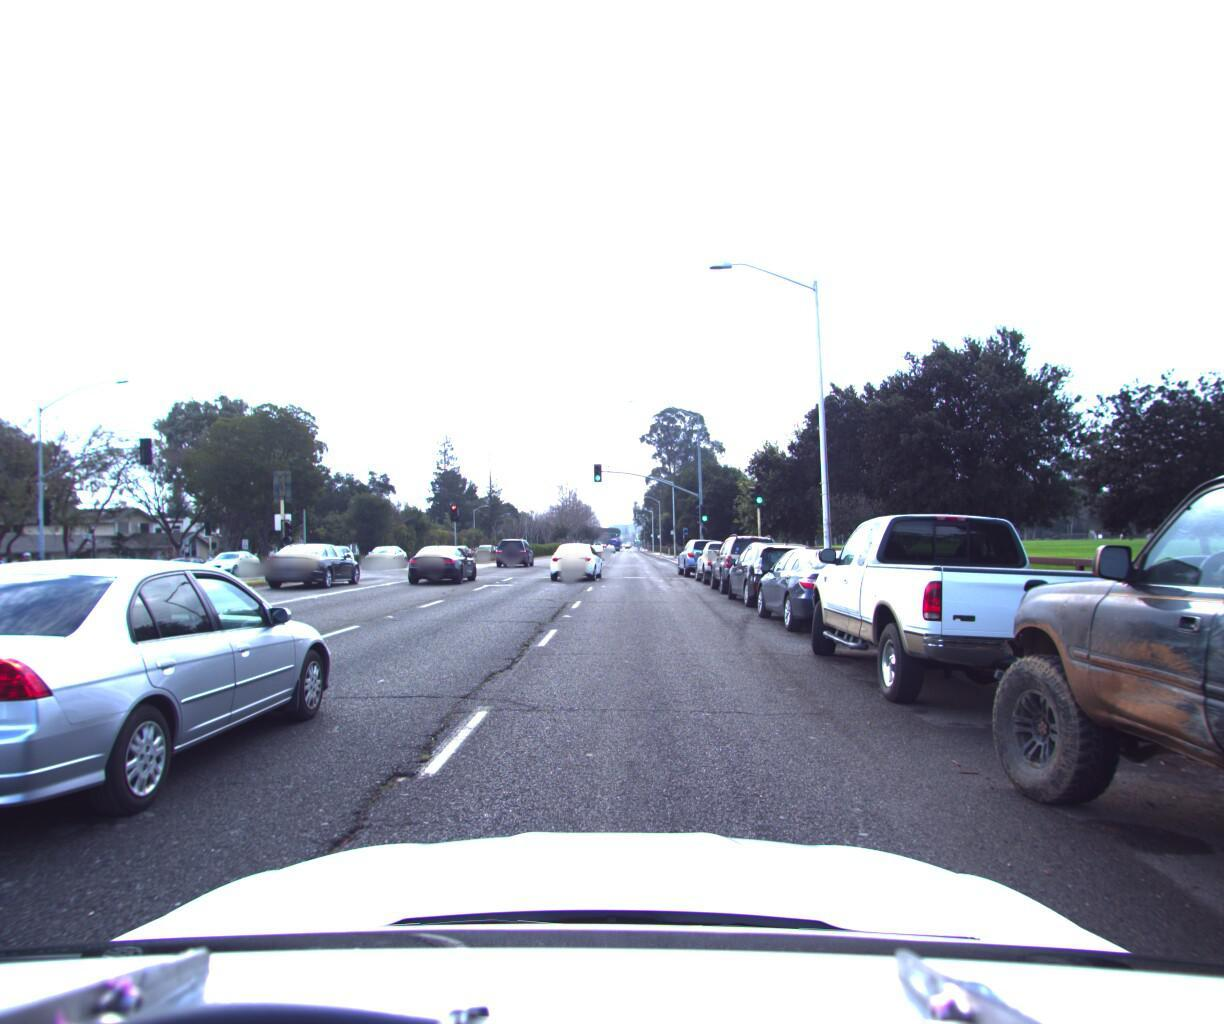bicycle: (0, 548, 55, 596), (23, 554, 74, 589), (0, 556, 23, 598)
car: (947, 257, 1224, 1024), (0, 546, 364, 875), (792, 493, 1160, 731), (747, 539, 915, 637), (721, 534, 830, 606), (703, 527, 789, 592), (256, 539, 363, 589), (400, 541, 480, 584), (690, 533, 755, 582), (550, 537, 606, 580), (673, 532, 728, 573), (198, 548, 267, 576), (0, 560, 46, 599), (491, 533, 536, 564), (361, 545, 411, 571)
